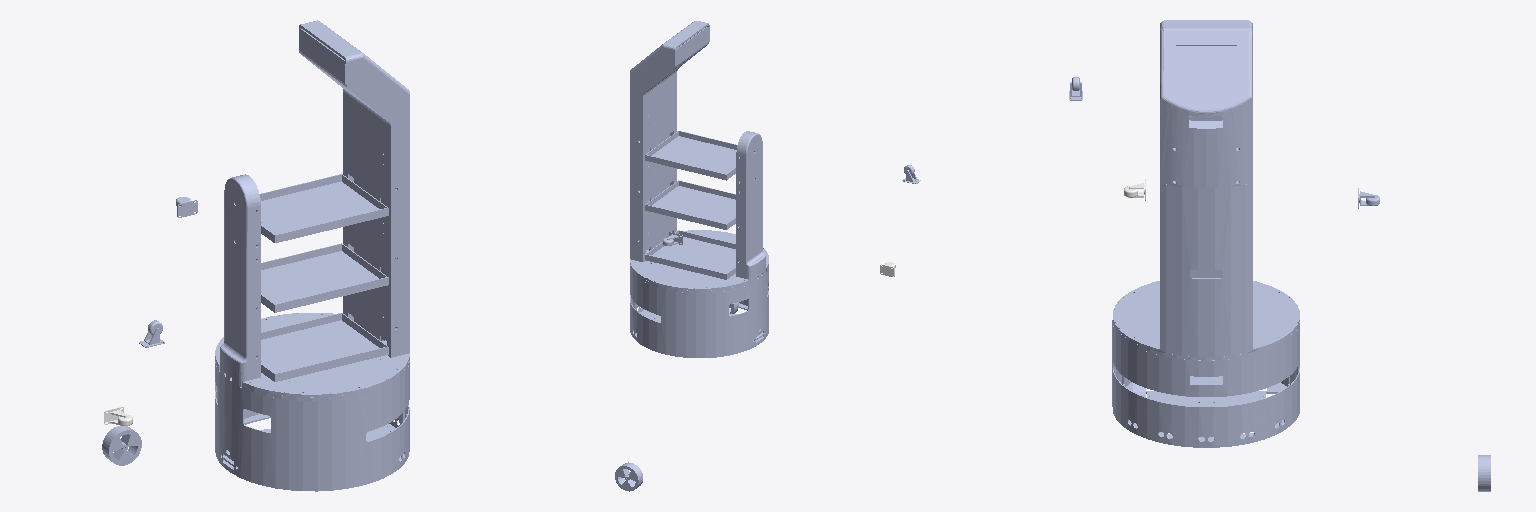
URDF robot description (srbot_description):
<?xml version="1.0" encoding="utf-8"?>
<!-- This URDF was automatically created by SolidWorks to URDF Exporter! Originally created by [author] ([email redacted]) 
     Commit Version: 1.6.0-4-g7f85cfe  Build Version: 1.6.7995.38578
     For more information, please see http://wiki.ros.org/sw_urdf_exporter -->
<robot
  name="srbot_description">
  <link
    name="base_link">
    <inertial>
      <origin
        xyz="0.20784 0.79758 0.40646"
        rpy="0 0 0" />
      <mass
        value="8.9517" />
      <inertia
        ixx="0.1856"
        ixy="0.0038526"
        ixz="7.8614E-07"
        iyy="0.16844"
        iyz="-7.4146E-07"
        izz="0.13754" />
    </inertial>
    <visual>
      <origin
        xyz="0 0 0"
        rpy="0 0 0" />
      <geometry>
        <mesh
          filename="package://srbot_description/meshes/base_link.STL" />
      </geometry>
      <material
        name="">
        <color
          rgba="0.79216 0.81961 0.93333 1" />
      </material>
    </visual>
    <collision>
      <origin
        xyz="0 0 0"
        rpy="0 0 0" />
      <geometry>
        <mesh
          filename="package://srbot_description/meshes/base_link.STL" />
      </geometry>
    </collision>
  </link>
  <link
    name="right_wheel">
    <inertial>
      <origin
        xyz="0 0 0.0175"
        rpy="0 0 0" />
      <mass
        value="0.19993" />
      <inertia
        ixx="0.0001654"
        ixy="-1.2262E-19"
        ixz="7.8909E-21"
        iyy="0.0001654"
        iyz="5.4847E-23"
        izz="0.00028999" />
    </inertial>
    <visual>
      <origin
        xyz="0 0 0"
        rpy="0 0 0" />
      <geometry>
        <mesh
          filename="package://srbot_description/meshes/right_wheel.STL" />
      </geometry>
      <material
        name="">
        <color
          rgba="0.79216 0.81961 0.93333 1" />
      </material>
    </visual>
    <collision>
      <origin
        xyz="0 0 0"
        rpy="0 0 0" />
      <geometry>
        <mesh
          filename="package://srbot_description/meshes/right_wheel.STL" />
      </geometry>
    </collision>
  </link>
  <joint
    name="right_joint"
    type="continuous">
    <origin
      xyz="0.1389 -0.57143 0.28518"
      rpy="1.5708 0 0" />
    <parent
      link="base_link" />
    <child
      link="right_wheel" />
    <axis
      xyz="0 0 0" />
  </joint>
  <link
    name="left_wheel">
    <inertial>
      <origin
        xyz="2.7756E-17 -0.0014195 -0.0175"
        rpy="0 0 0" />
      <mass
        value="0.19993" />
      <inertia
        ixx="0.0001654"
        ixy="-1.2289E-19"
        ixz="4.0509E-22"
        iyy="0.0001654"
        iyz="4.2424E-22"
        izz="0.00028999" />
    </inertial>
    <visual>
      <origin
        xyz="0 0 0"
        rpy="0 0 0" />
      <geometry>
        <mesh
          filename="package://srbot_description/meshes/left_wheel.STL" />
      </geometry>
      <material
        name="">
        <color
          rgba="0.79216 0.81961 0.93333 1" />
      </material>
    </visual>
    <collision>
      <origin
        xyz="0 0 0"
        rpy="0 0 0" />
      <geometry>
        <mesh
          filename="package://srbot_description/meshes/left_wheel.STL" />
      </geometry>
    </collision>
  </link>
  <joint
    name="left_joint"
    type="continuous">
    <origin
      xyz="0.1389 -0.24143 0.2866"
      rpy="1.5708 0 0" />
    <parent
      link="base_link" />
    <child
      link="left_wheel" />
    <axis
      xyz="0 0 0" />
  </joint>
  <link
    name="front_right_caster">
    <inertial>
      <origin
        xyz="0.0076552 -1.1102E-16 -0.027561"
        rpy="0 0 0" />
      <mass
        value="0.037642" />
      <inertia
        ixx="0.1"
        ixy="0.1"
        ixz="0.1"
        iyy="0.1"
        iyz="0.1"
        izz="0.1" />
    </inertial>
    <visual>
      <origin
        xyz="0 0 0"
        rpy="0 0 0" />
      <geometry>
        <mesh
          filename="package://srbot_description/meshes/front_right_caster.STL" />
      </geometry>
      <material
        name="">
        <color
          rgba="0.79216 0.81961 0.93333 1" />
      </material>
    </visual>
    <collision>
      <origin
        xyz="0 0 0"
        rpy="0 0 0" />
      <geometry>
        <mesh
          filename="package://srbot_description/meshes/front_right_caster.STL" />
      </geometry>
    </collision>
  </link>
  <joint
    name="front_left_joint"
    type="continuous">
    <origin
      xyz="0.2774 -0.52643 0.29318"
      rpy="0 0 0" />
    <parent
      link="base_link" />
    <child
      link="front_right_caster" />
    <axis
      xyz="0 0 0" />
  </joint>
  <link
    name="front_left_caster">
    <inertial>
      <origin
        xyz="0.0076552 0 -0.027561"
        rpy="0 0 0" />
      <mass
        value="0.037642" />
      <inertia
        ixx="0.1"
        ixy="0.1"
        ixz="0.1"
        iyy="0.1"
        iyz="0.1"
        izz="0.1" />
    </inertial>
    <visual>
      <origin
        xyz="0 0 0"
        rpy="0 0 0" />
      <geometry>
        <mesh
          filename="package://srbot_description/meshes/front_left_caster.STL" />
      </geometry>
      <material
        name="">
        <color
          rgba="0.79216 0.81961 0.93333 1" />
      </material>
    </visual>
    <collision>
      <origin
        xyz="0 0 0"
        rpy="0 0 0" />
      <geometry>
        <mesh
          filename="package://srbot_description/meshes/front_left_caster.STL" />
      </geometry>
    </collision>
  </link>
  <joint
    name="front_left_joint"
    type="continuous">
    <origin
      xyz="0.2774 -0.28643 0.29318"
      rpy="0 0 0" />
    <parent
      link="base_link" />
    <child
      link="front_left_caster" />
    <axis
      xyz="0 0 0" />
  </joint>
  <link
    name="back_right_caster">
    <inertial>
      <origin
        xyz="0.0076552 -1.1102E-16 -0.027561"
        rpy="0 0 0" />
      <mass
        value="0.037642" />
      <inertia
        ixx="0.1"
        ixy="0.1"
        ixz="0.1"
        iyy="0.1"
        iyz="0.1"
        izz="0.1" />
    </inertial>
    <visual>
      <origin
        xyz="0 0 0"
        rpy="0 0 0" />
      <geometry>
        <mesh
          filename="package://srbot_description/meshes/back_right_caster.STL" />
      </geometry>
      <material
        name="">
        <color
          rgba="0.79216 0.81961 0.93333 1" />
      </material>
    </visual>
    <collision>
      <origin
        xyz="0 0 0"
        rpy="0 0 0" />
      <geometry>
        <mesh
          filename="package://srbot_description/meshes/back_right_caster.STL" />
      </geometry>
    </collision>
  </link>
  <joint
    name="back_right_joint"
    type="continuous">
    <origin
      xyz="0.0054009 -0.52643 0.29318"
      rpy="0 0 0" />
    <parent
      link="base_link" />
    <child
      link="back_right_caster" />
    <axis
      xyz="0 0 0" />
  </joint>
  <link
    name="back_left_caster">
    <inertial>
      <origin
        xyz="0.0076552 0 0"
        rpy="0 0 0" />
      <mass
        value="0" />
      <inertia
        ixx="0.1"
        ixy="0.1"
        ixz="0.1"
        iyy="0.1"
        iyz="0.1"
        izz="0.1" />
    </inertial>
    <visual>
      <origin
        xyz="0 0 0"
        rpy="0 0 0" />
      <geometry>
        <mesh
          filename="package://srbot_description/meshes/back_left_caster.STL" />
      </geometry>
      <material
        name="">
        <color
          rgba="1 1 1 1" />
      </material>
    </visual>
    <collision>
      <origin
        xyz="0 0 0"
        rpy="0 0 0" />
      <geometry>
        <mesh
          filename="package://srbot_description/meshes/back_left_caster.STL" />
      </geometry>
    </collision>
  </link>
  <joint
    name="back_left_caster"
    type="continuous">
    <origin
      xyz="0.0054009 -0.28643 0.29318"
      rpy="0 0 0" />
    <parent
      link="base_link" />
    <child
      link="back_left_caster" />
    <axis
      xyz="0 0 0" />
  </joint>
</robot>

--- What the picture shows (computed from the rendered views, not written in the file) ---
3 views of the same robot in one strip: view 1: azimuth 30°, elevation 25°; view 2: azimuth 150°, elevation 25°; view 3: azimuth 270°, elevation 25° (orthographic).
Model srbot_description with 7 links and 6 joints (6 continuous), rooted at base_link, posed every joint at zero.
Visible links, largest first — view 1: base_link, left_wheel; view 2: base_link, left_wheel; view 3: base_link.
Link boxes in pixels (x1,y1,x2,y2): base_link: (215, 20, 409, 491); left_wheel: (102, 426, 141, 465); base_link: (630, 21, 768, 357); left_wheel: (615, 462, 642, 491); base_link: (1112, 20, 1299, 447).
Size in the robot's own frame: 0.9782 by 1.14 by 1.48 metres.
Meshes: 7 distinct files referenced, 7 mesh visuals loaded (7 binary STL).